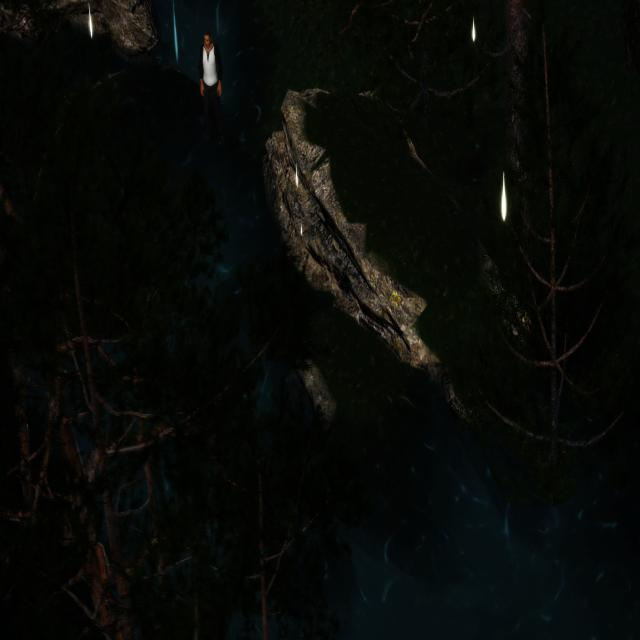Human: (195, 24, 228, 154)
